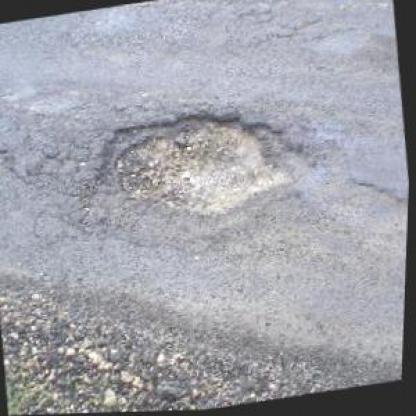pothole: (76, 90, 324, 244)
